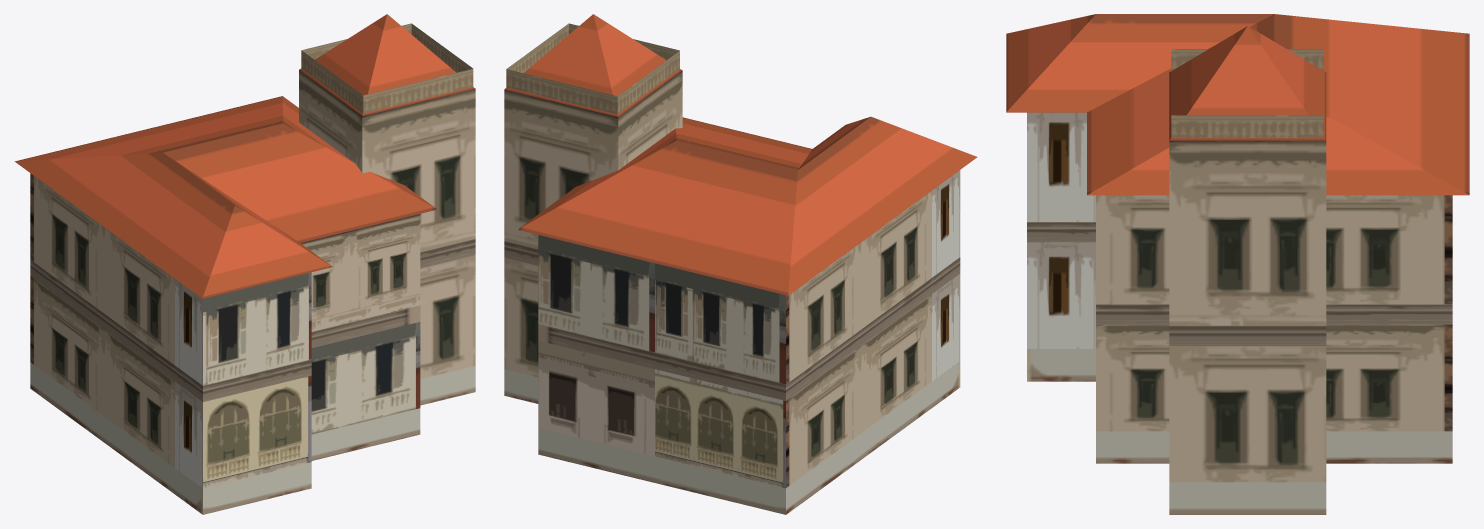
The model's file is SM_Building_ColonialHouse_03.fbx.
3 views of the same model, side by side, from view 1: azimuth 30°, elevation 25°; view 2: azimuth 150°, elevation 25°; view 3: azimuth 270°, elevation 25° (orthographic). The views are drawn at different scales.
Parts seen in each view (by area): view 1: SM_Building_ColonialHouse_03; view 2: SM_Building_ColonialHouse_03; view 3: SM_Building_ColonialHouse_03.
Part boxes in pixels (x1,y1,x2,y2): SM_Building_ColonialHouse_03: (14,14,475,514); SM_Building_ColonialHouse_03: (504,14,977,514); SM_Building_ColonialHouse_03: (1006,14,1469,514).
Size of the model in its own units: 14.67 by 15.23 by 14.06.
